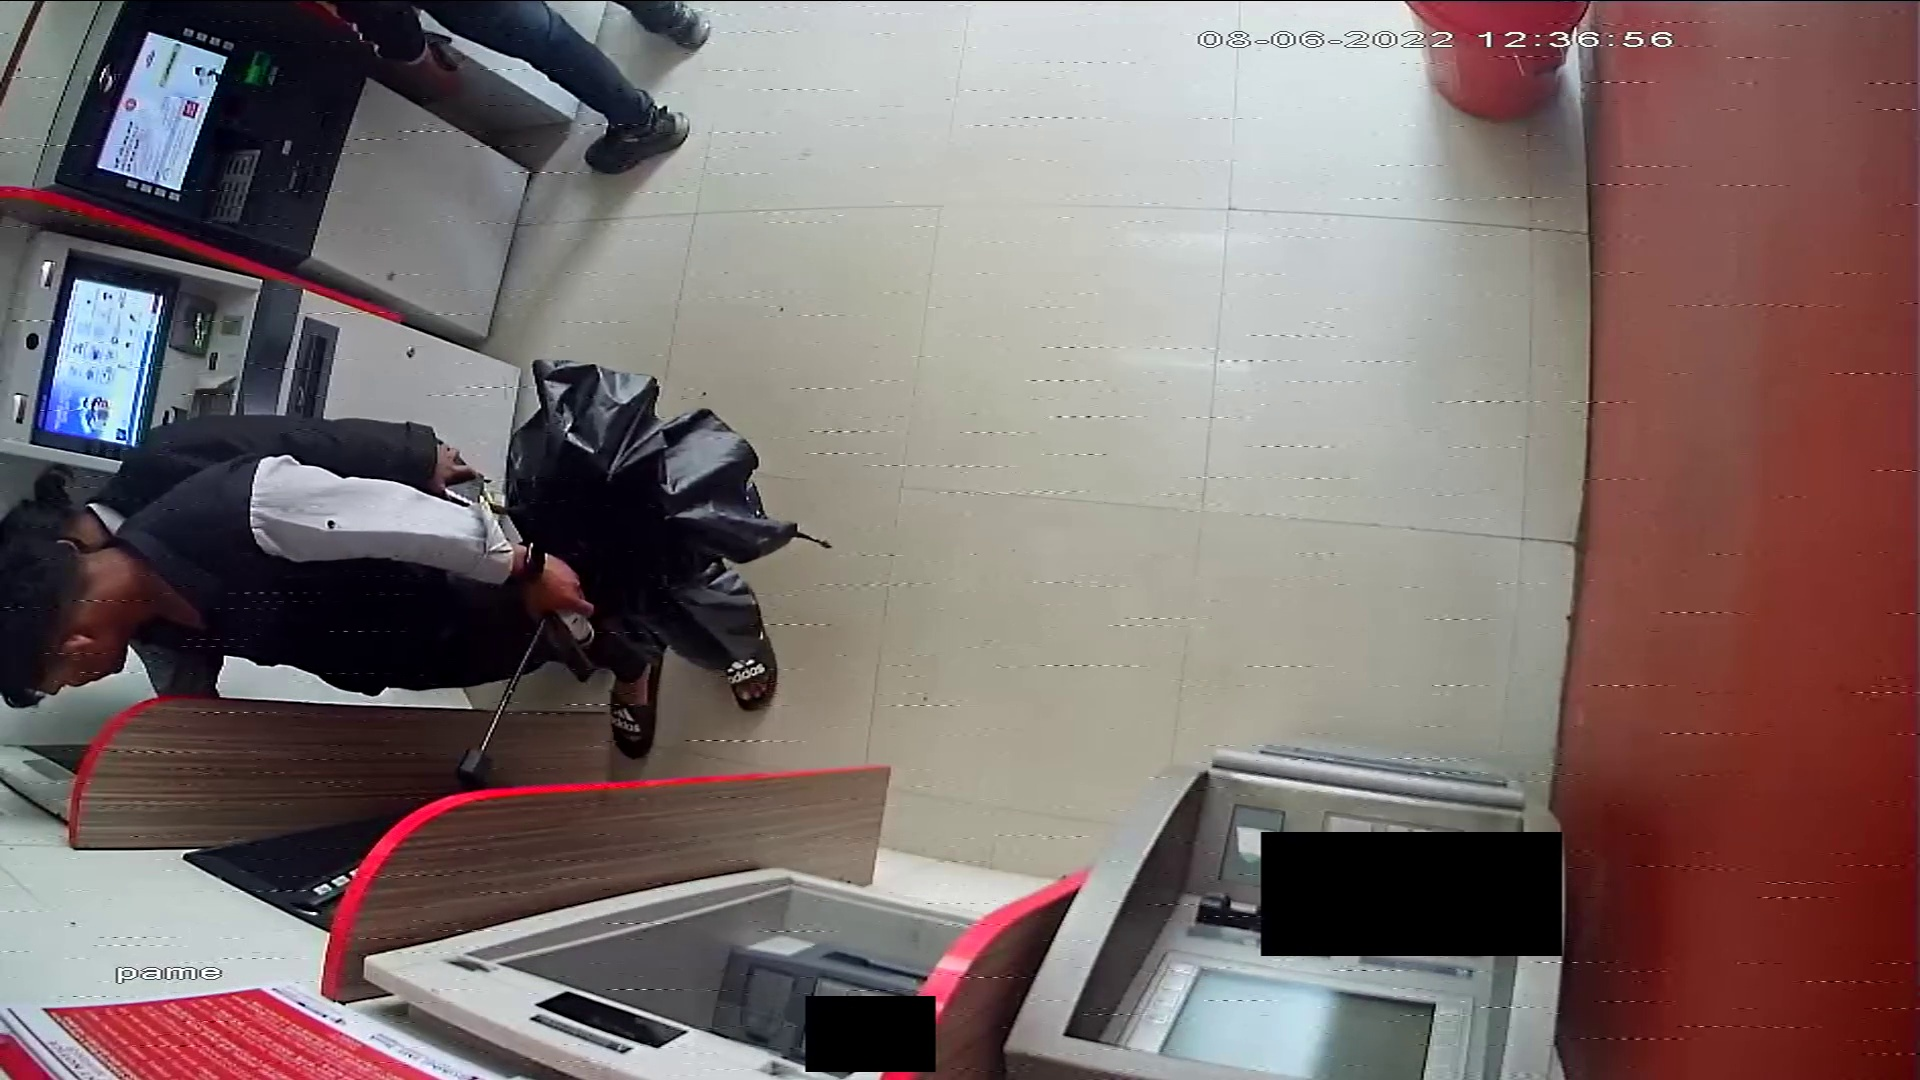person: (1, 448, 781, 766), (401, 1, 717, 169)
